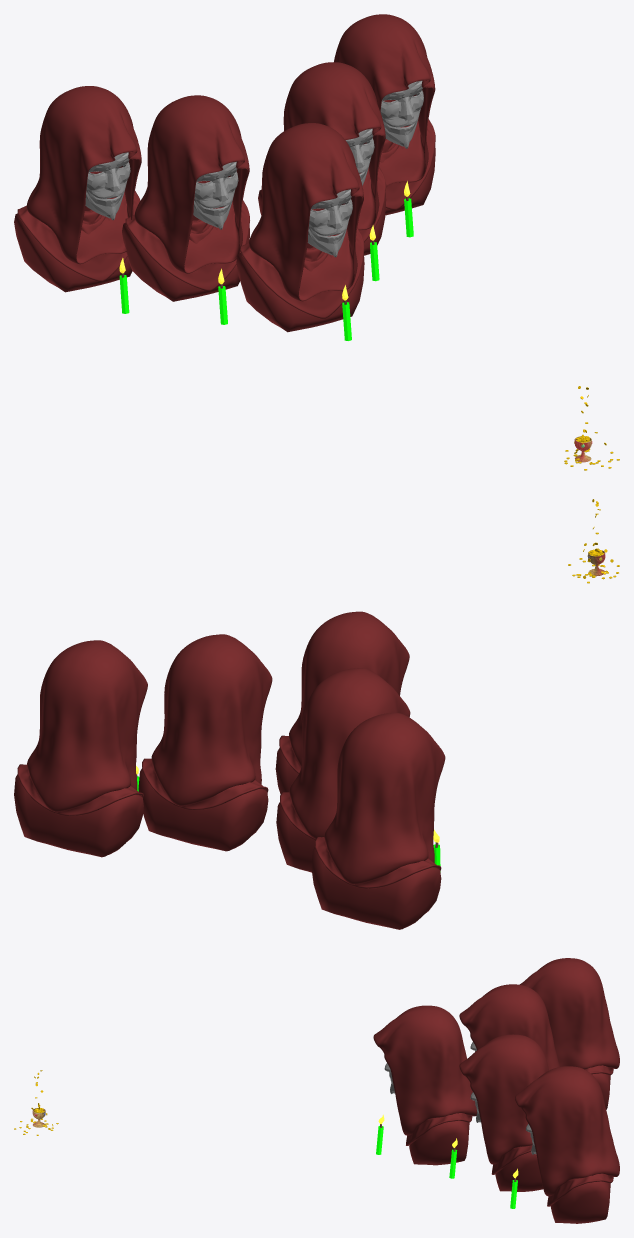
File: holyGrail.glb
The picture shows the model from 3 angles, top to bottom: view 1: azimuth 30°, elevation 25°; view 2: azimuth 150°, elevation 25°; view 3: azimuth 270°, elevation 25°; orthographic projection. The views are drawn at different scales.
Parts seen in each view (by area): view 1: fabric5_4_fabric5_4_0.008, fabric5_4_fabric5_4_0.004, fabric5_4_fabric5_4_0.016, fabric5_4_fabric5_4_0.020, fabric5_4_fabric5_4_0.012, fabric5_4_fabric5_4_0.002, fabric5_4_fabric5_4_0.003, fabric5_4_fabric5_4_0.007, fabric5_4_fabric5_4_0.015, fabric5_4_fabric5_4_0.006, fabric5_4_fabric5_4_0.014, Mesh1 Model.003 (+6 smaller); view 2: fabric5_4_fabric5_4_0.012, fabric5_4_fabric5_4_0.016, fabric5_4_fabric5_4_0.020, fabric5_4_fabric5_4_0.008, fabric5_4_fabric5_4_0.004, fabric5_4_fabric5_4_0.014, fabric5_4_fabric5_4_0.018, fabric5_4_fabric5_4_0.010, fabric5_4_fabric5_4_0.006, fabric5_4_fabric5_4_0.015, fabric5_4_fabric5_4_0.019, fabric5_4_fabric5_4_0.011 (+1 smaller); view 3: fabric5_4_fabric5_4_0.020, fabric5_4_fabric5_4_0.004, fabric5_4_fabric5_4_0.016, fabric5_4_fabric5_4_0.012, fabric5_4_fabric5_4_0.008, fabric5_4_fabric5_4_0.002, fabric5_4_fabric5_4_0.018, fabric5_4_fabric5_4_0.010, fabric5_4_fabric5_4_0.019, fabric5_4_fabric5_4_0.003, fabric5_4_fabric5_4_0.011.
Boxes of the visible parts, left/top/right/bottom form: fabric5_4_fabric5_4_0.008: left=134, top=95, right=249, bottom=273; fabric5_4_fabric5_4_0.004: left=249, top=123, right=363, bottom=301; fabric5_4_fabric5_4_0.016: left=26, top=86, right=141, bottom=264; fabric5_4_fabric5_4_0.020: left=334, top=14, right=435, bottom=186; fabric5_4_fabric5_4_0.012: left=283, top=62, right=385, bottom=230; fabric5_4_fabric5_4_0.002: left=236, top=253, right=364, bottom=332; fabric5_4_fabric5_4_0.003: left=240, top=228, right=364, bottom=318; fabric5_4_fabric5_4_0.007: left=125, top=200, right=249, bottom=290; fabric5_4_fabric5_4_0.015: left=17, top=191, right=140, bottom=281; fabric5_4_fabric5_4_0.006: left=122, top=223, right=249, bottom=301; fabric5_4_fabric5_4_0.014: left=14, top=213, right=132, bottom=292; Mesh1 Model.003: left=85, top=152, right=130, bottom=220; fabric5_4_fabric5_4_0.012: left=151, top=634, right=272, bottom=806; fabric5_4_fabric5_4_0.016: left=324, top=713, right=445, bottom=884; fabric5_4_fabric5_4_0.020: left=27, top=640, right=147, bottom=812; fabric5_4_fabric5_4_0.008: left=289, top=668, right=410, bottom=839; fabric5_4_fabric5_4_0.004: left=288, top=611, right=409, bottom=766; fabric5_4_fabric5_4_0.014: left=311, top=847, right=441, bottom=929; fabric5_4_fabric5_4_0.018: left=14, top=774, right=143, bottom=857; fabric5_4_fabric5_4_0.010: left=138, top=768, right=268, bottom=851; fabric5_4_fabric5_4_0.006: left=276, top=802, right=314, bottom=872; fabric5_4_fabric5_4_0.015: left=315, top=837, right=441, bottom=888; fabric5_4_fabric5_4_0.019: left=17, top=764, right=143, bottom=815; fabric5_4_fabric5_4_0.011: left=142, top=758, right=268, bottom=809; fabric5_4_fabric5_4_0.020: left=515, top=1066, right=619, bottom=1196; fabric5_4_fabric5_4_0.004: left=373, top=1005, right=477, bottom=1135; fabric5_4_fabric5_4_0.016: left=520, top=958, right=619, bottom=1069; fabric5_4_fabric5_4_0.012: left=459, top=1034, right=548, bottom=1164; fabric5_4_fabric5_4_0.008: left=459, top=984, right=559, bottom=1070; fabric5_4_fabric5_4_0.002: left=409, top=1120, right=469, bottom=1165; fabric5_4_fabric5_4_0.018: left=550, top=1181, right=610, bottom=1223; fabric5_4_fabric5_4_0.010: left=495, top=1152, right=543, bottom=1191; fabric5_4_fabric5_4_0.019: left=547, top=1173, right=613, bottom=1206; fabric5_4_fabric5_4_0.003: left=406, top=1113, right=472, bottom=1145; fabric5_4_fabric5_4_0.011: left=491, top=1145, right=532, bottom=1174.
Size of the model in its own units: 140 by 62.41 by 238.
Materials: 9 (1 with a texture image).
